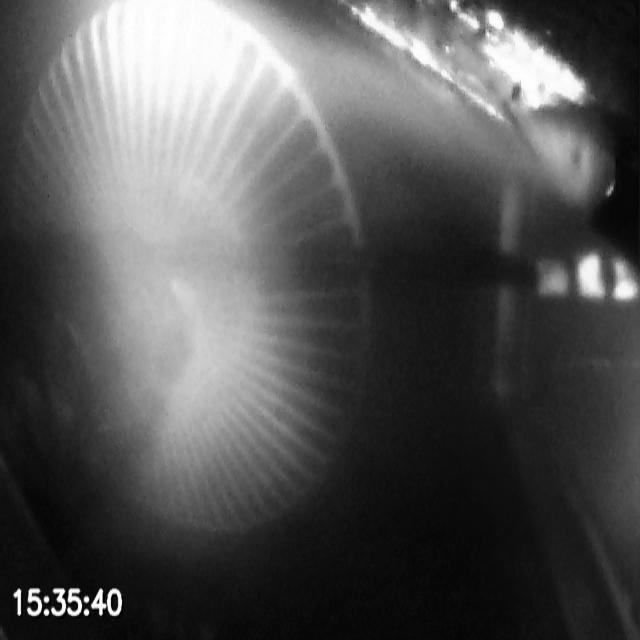white-dots: (536, 250, 640, 305)
